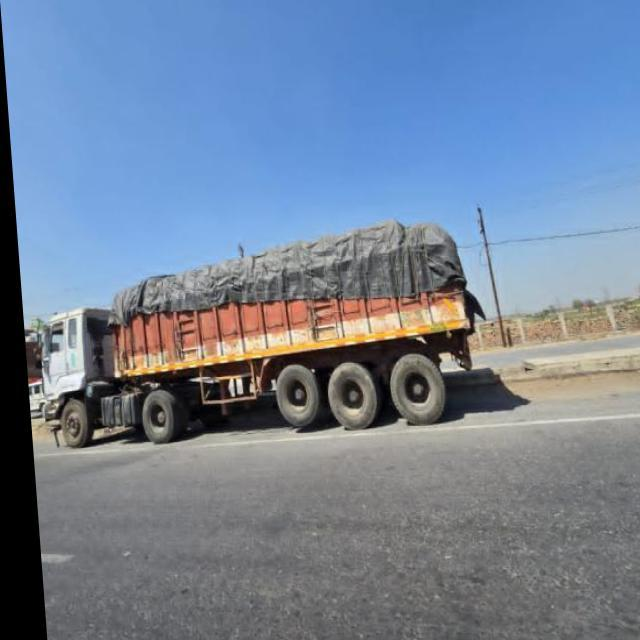covered: (102, 218, 476, 436)
